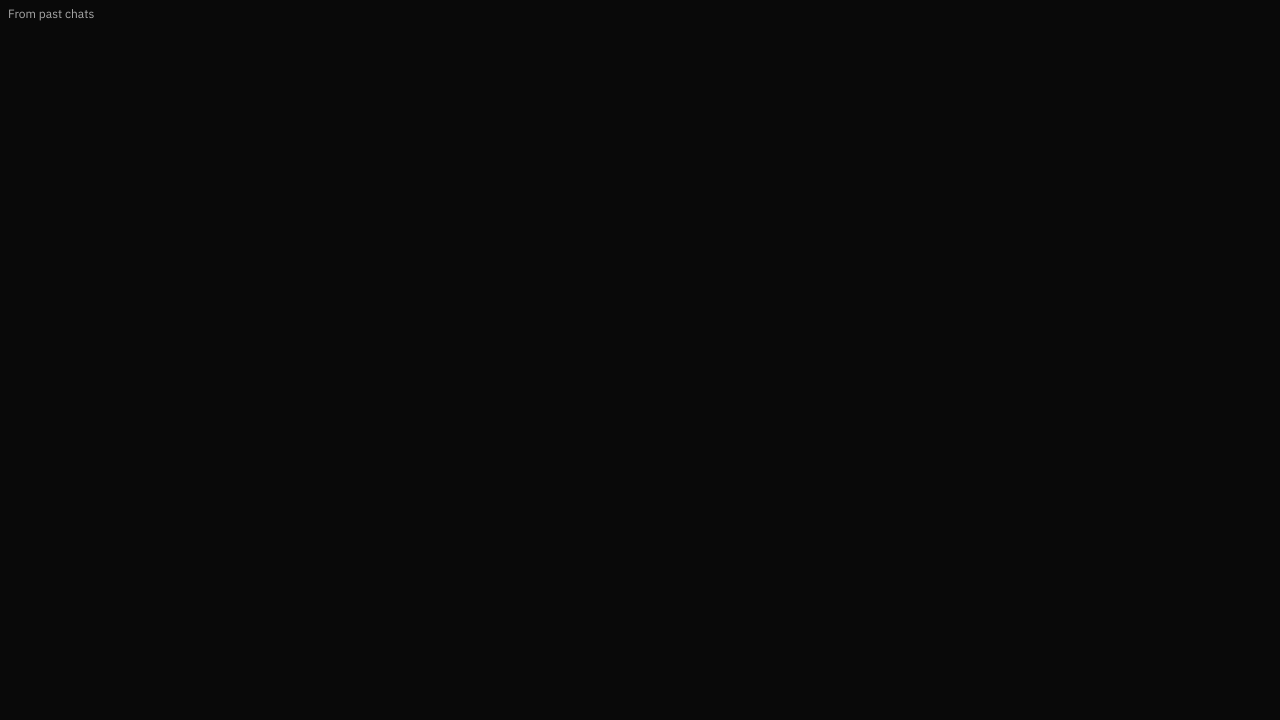
Scenario: keeps the picker usable when the server returns an older response
Step 1. Click the button "From past chats" → (51, 14), box [0, 6, 102, 22]
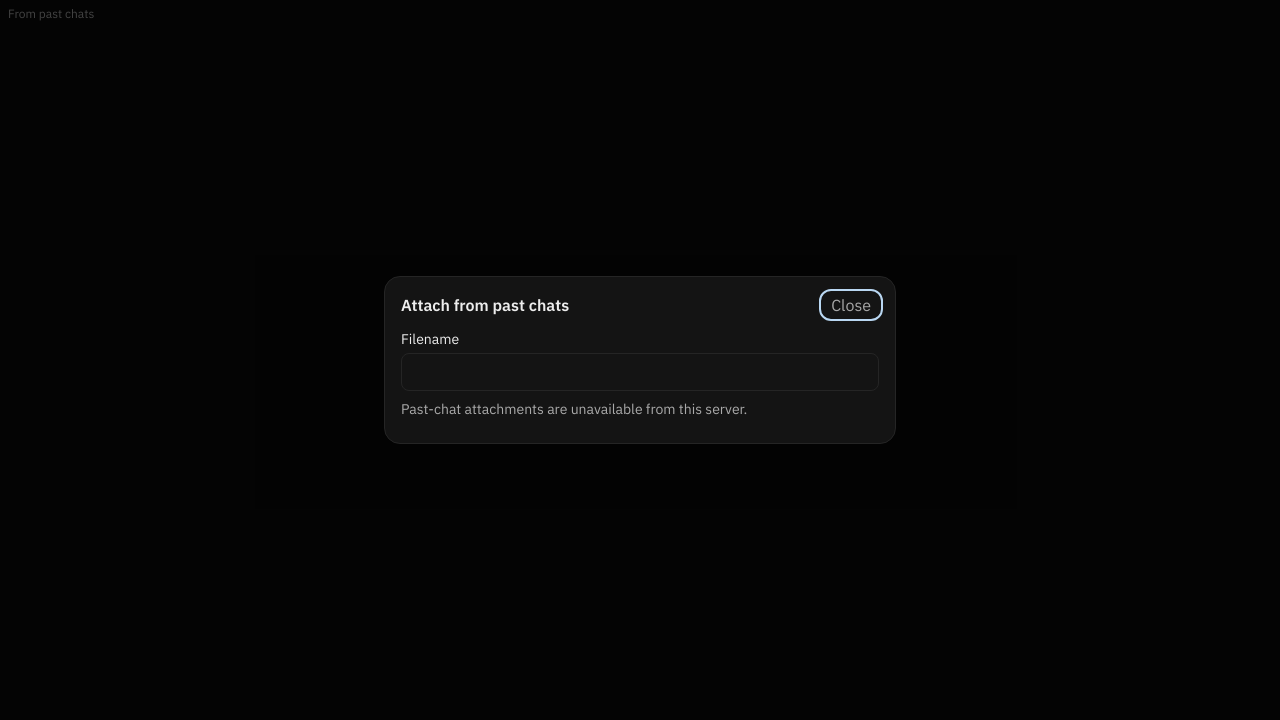
Check: the text "Past-chat attachments are unavailable from this server." is shown, box [401, 400, 747, 418]
